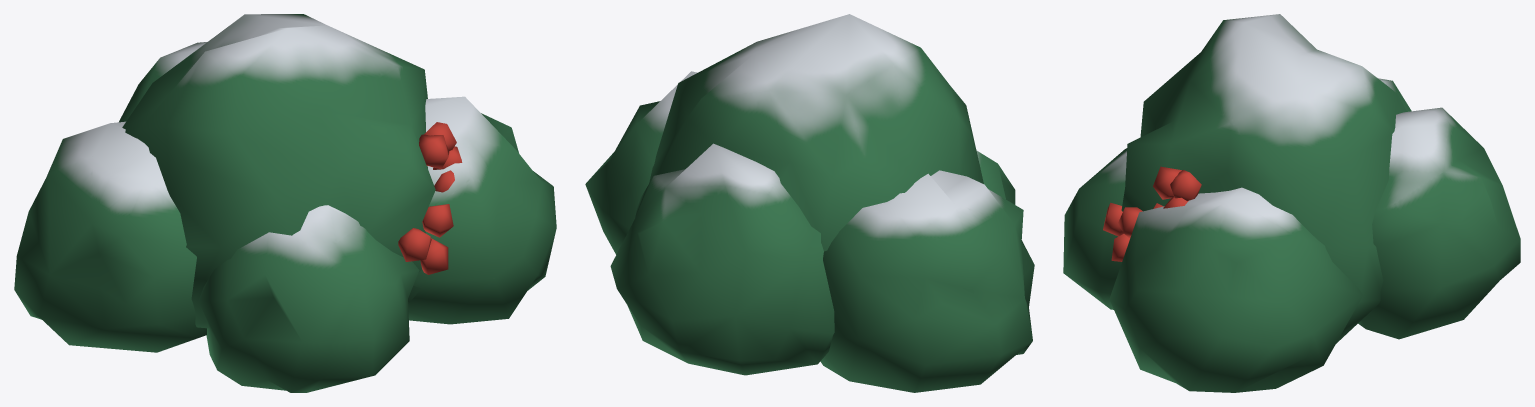
Rendered from bush_snow.glb.
The picture shows the model from 3 angles, left to right: view 1: azimuth 30°, elevation 25°; view 2: azimuth 150°, elevation 25°; view 3: azimuth 270°, elevation 25°; orthographic projection. The views are drawn at different scales.
Visible parts, largest first — view 1: berry; view 2: berry; view 3: berry.
Part boxes in pixels (<box>): berry: <box>14,14,556,392</box>; berry: <box>585,14,1034,392</box>; berry: <box>1063,14,1520,392</box>.
Size of the model in its own units: 1.34 by 0.8107 by 1.2.
Materials: 1 (1 with a texture image).
